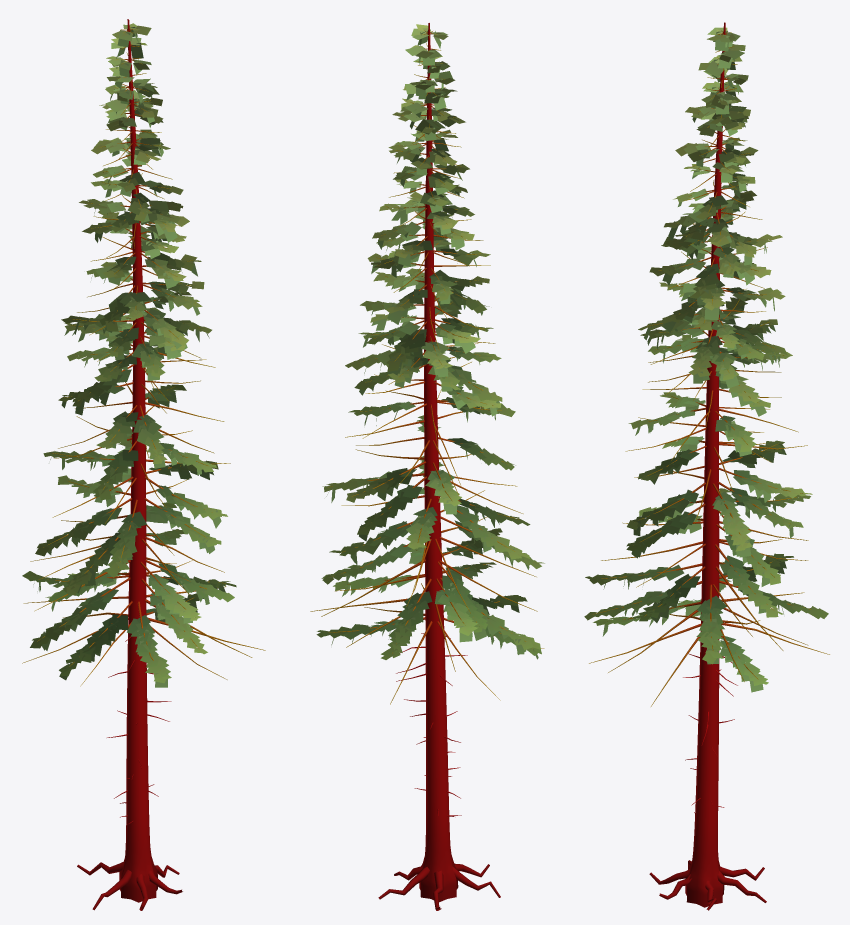
Rendered from spruce_a.glb.
3 renders of one model, left to right at view 1: azimuth 30°, elevation 25°; view 2: azimuth 150°, elevation 25°; view 3: azimuth 270°, elevation 25°, orthographic.
Visible parts, largest first — view 1: LOD0; view 2: LOD0; view 3: LOD0.
Part boxes in pixels (bbox=[...]): LOD0: bbox=[22, 19, 265, 910]; LOD0: bbox=[310, 23, 544, 910]; LOD0: bbox=[584, 22, 829, 910].
Size of what is drawn, in the model's own units: 7.57 by 28.74 by 7.54.
